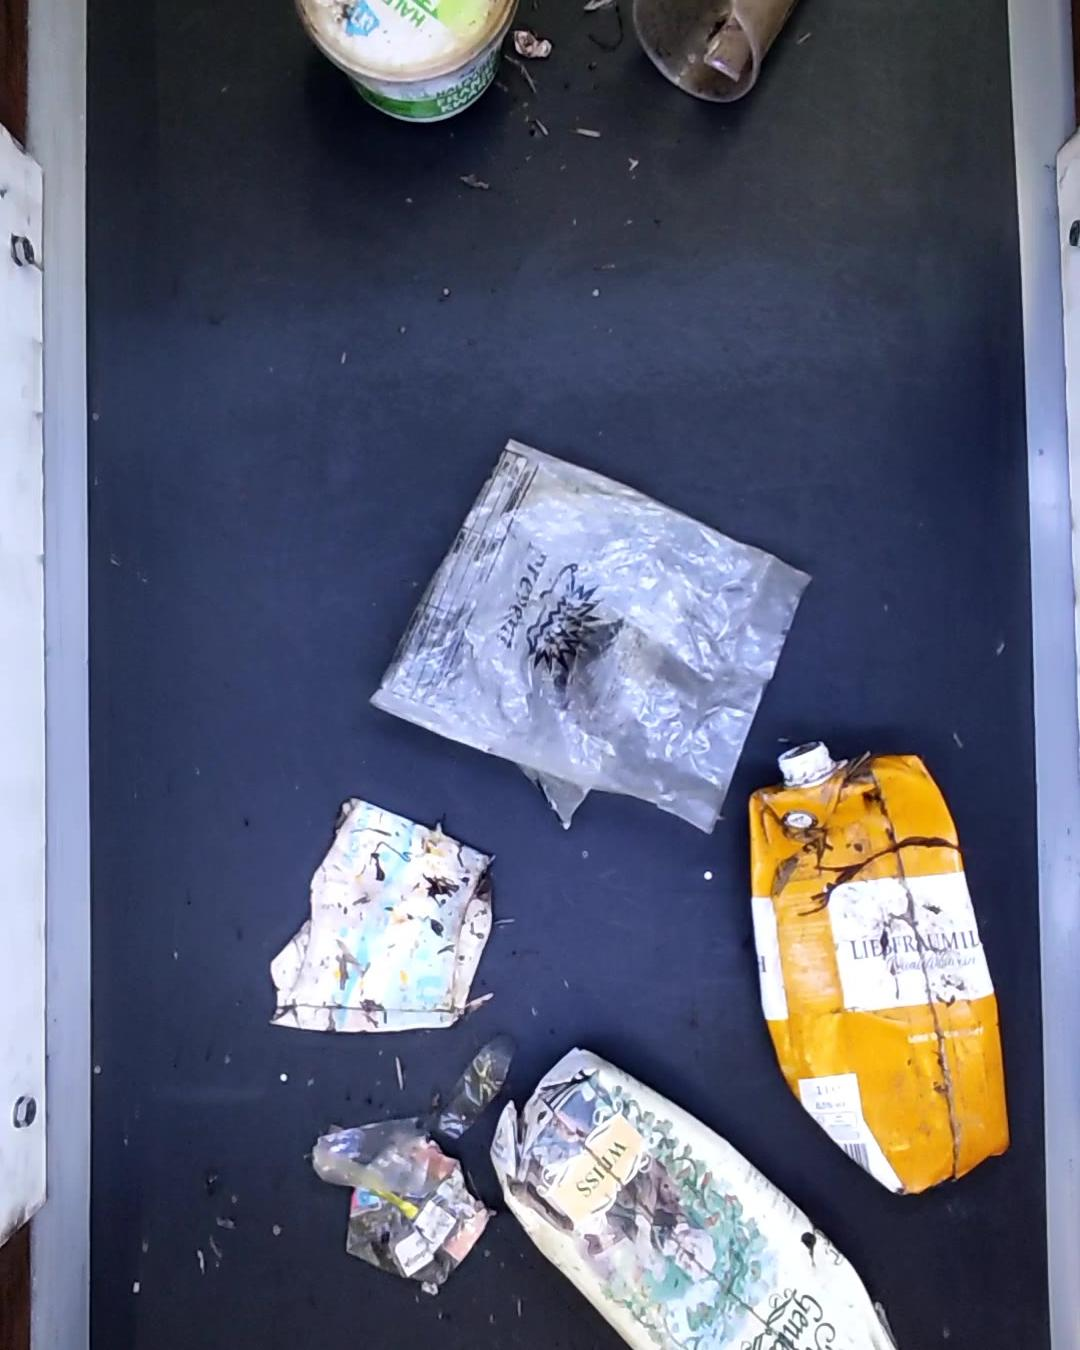Plastic folies of stukken daarvan 2.5- 50 cm: (307, 1116, 432, 1194), (432, 1036, 521, 1141)
Voedselverpakkingen: (369, 445, 809, 831), (294, 0, 516, 126)
